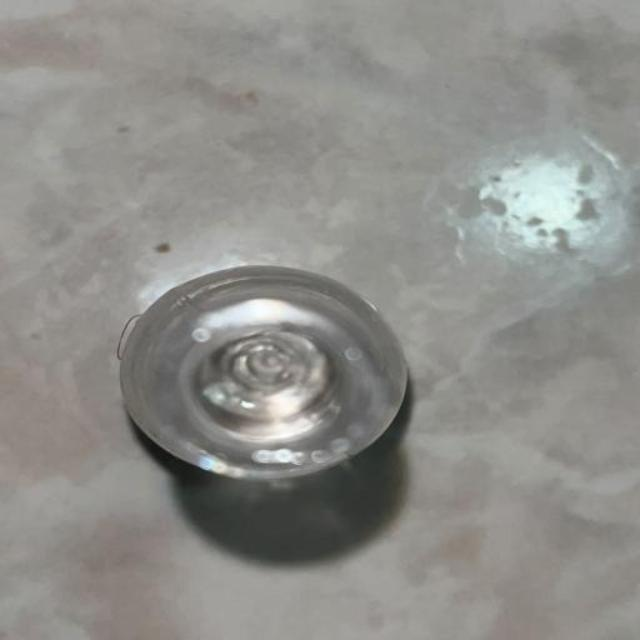PET: (50, 102, 538, 595)
